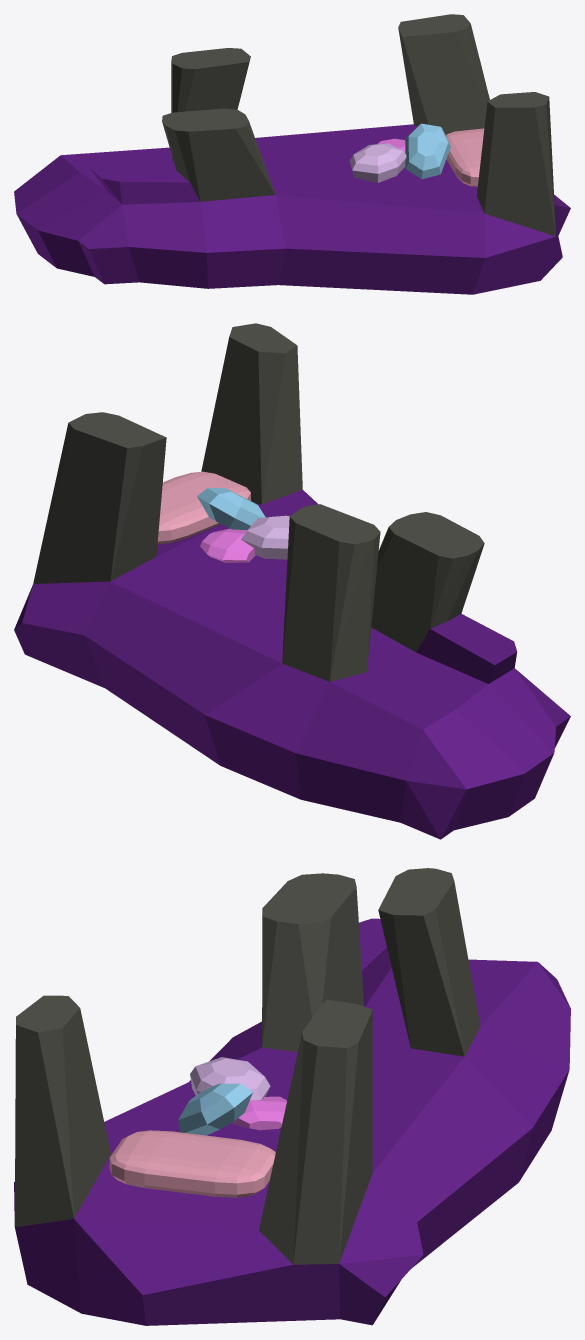
Rendered from GranitIsland.fbx.
3 renders of one model, top to bottom at view 1: azimuth 30°, elevation 25°; view 2: azimuth 150°, elevation 25°; view 3: azimuth 270°, elevation 25°, orthographic. The views are drawn at different scales.
Visible parts, largest first — view 1: Icosphere, Cylinder.011, Cylinder.010, Cube.034; view 2: Icosphere, Cube.034, Cylinder.011, Cylinder.010, Cylinder.012; view 3: Icosphere, Cube.034, Cylinder.011, Cylinder.010, Cylinder.012.
Boxes of the visible parts, box(x1,y1,x2,y2) form: Icosphere: box(14, 14, 570, 294); Cylinder.011: box(405, 123, 450, 179); Cylinder.010: box(349, 143, 406, 182); Cube.034: box(446, 128, 484, 186); Icosphere: box(14, 323, 570, 839); Cube.034: box(157, 471, 250, 544); Cylinder.011: box(197, 488, 265, 529); Cylinder.010: box(241, 515, 289, 559); Cylinder.012: box(200, 528, 255, 562); Icosphere: box(14, 868, 570, 1325); Cube.034: box(109, 1130, 275, 1197); Cylinder.011: box(178, 1083, 252, 1135); Cylinder.010: box(190, 1057, 270, 1100); Cylinder.012: box(233, 1096, 286, 1130).
Size of the model in its own units: 1525 by 596 by 1153.
